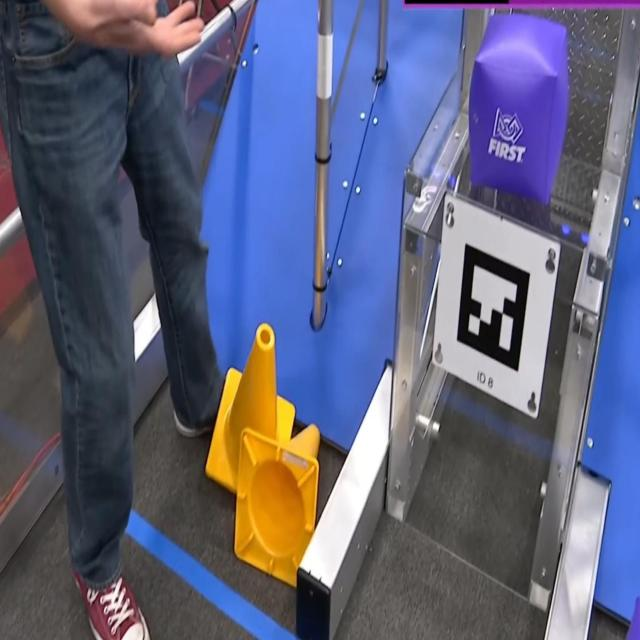frc_cone: (209, 325, 293, 496), (234, 419, 320, 582)
frc_cube: (471, 12, 567, 205)
